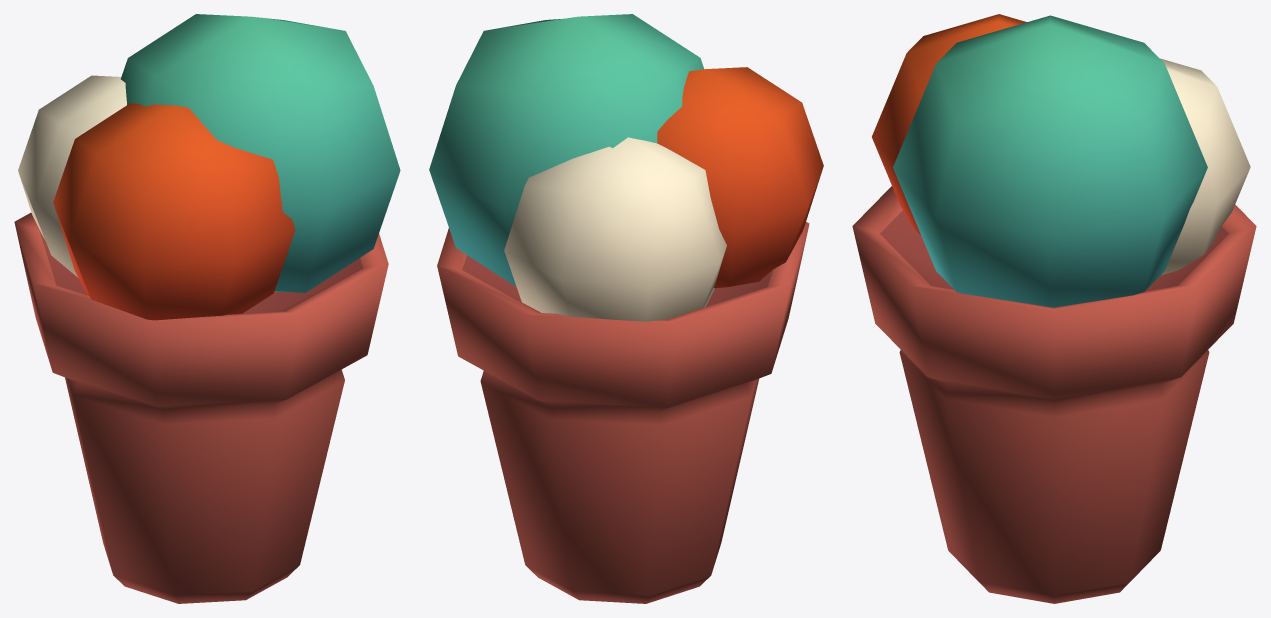
Rendered from IceCream02Var2.fbx.
3 renders of one model, left to right at view 1: azimuth 30°, elevation 25°; view 2: azimuth 150°, elevation 25°; view 3: azimuth 270°, elevation 25°, orthographic. The views are drawn at different scales.
Parts seen in each view (by area): view 1: IceCreamVar2b; view 2: IceCreamVar2b; view 3: IceCreamVar2b.
Boxes of the visible parts, x1,y1,x2,y2 form: IceCreamVar2b: [14, 14, 400, 603]; IceCreamVar2b: [429, 14, 823, 603]; IceCreamVar2b: [852, 14, 1256, 603].
Size of the model in its own units: 0.1182 by 0.1147 by 0.1767.
